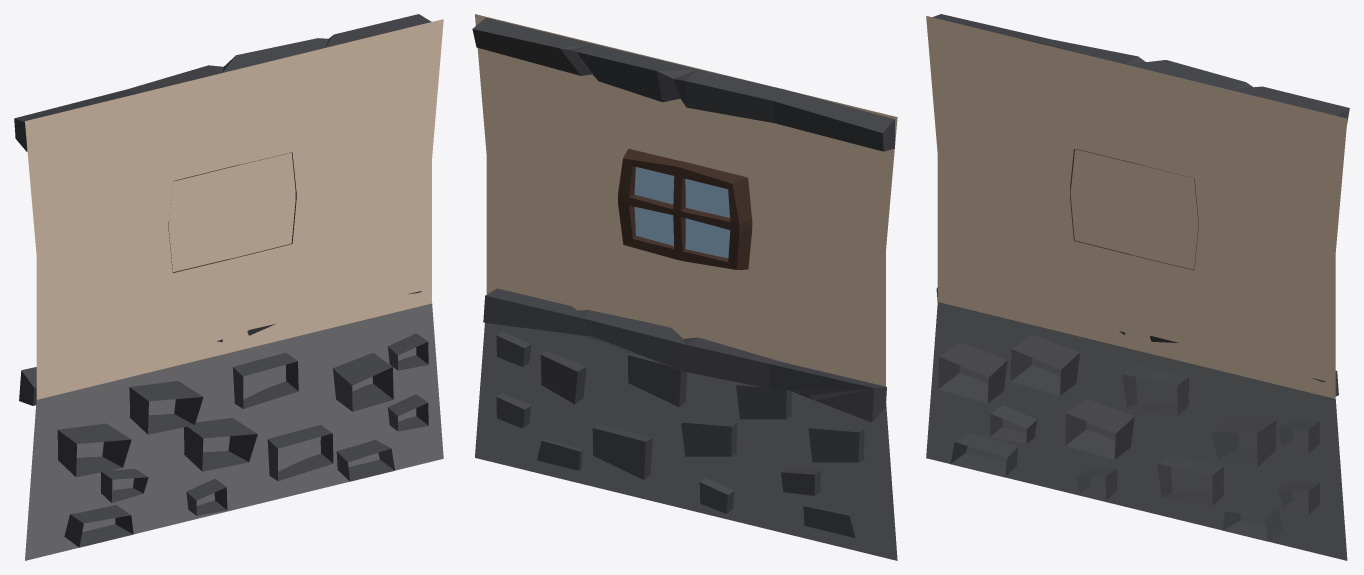
Rendered from SM_L_G_Home_side_2.fbx.
3 renders of one model, left to right at view 1: azimuth 30°, elevation 25°; view 2: azimuth 150°, elevation 25°; view 3: azimuth 330°, elevation 25°, orthographic.
Parts seen in each view (by area): view 1: SM_L_G_Home_Side_2; view 2: SM_L_G_Home_Side_2; view 3: SM_L_G_Home_Side_2.
Part boxes in pixels (x1,y1,x2,y2): SM_L_G_Home_Side_2: [14, 14, 443, 560]; SM_L_G_Home_Side_2: [472, 14, 897, 560]; SM_L_G_Home_Side_2: [926, 14, 1349, 560].
Size of the model in its own units: 3 by 3.01 by 0.4699.
1 material, 1 textured.
